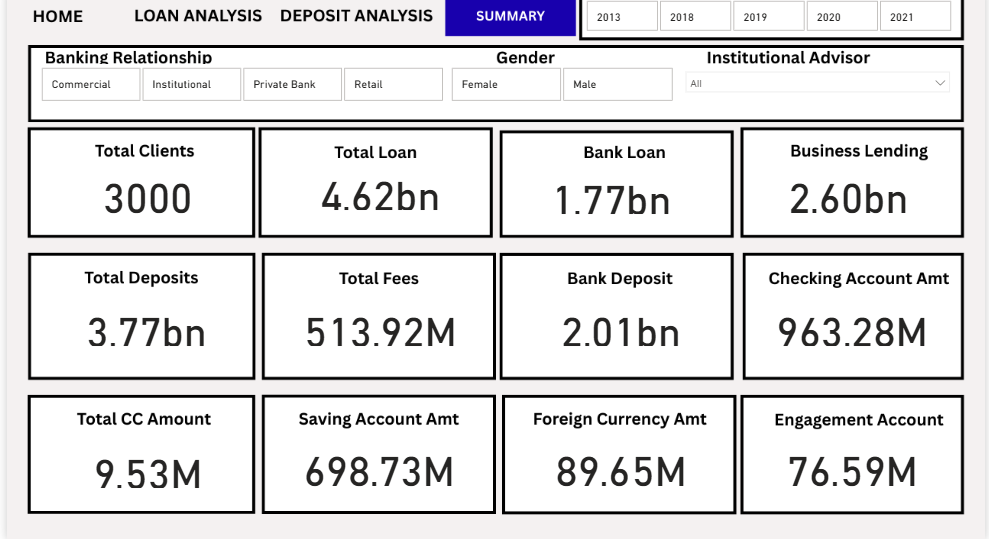

Layout of this report page (visuals, bound fields, positions):
{"tool":"powerbi","page":{"name":"Summary","canvas":[1280,720],"ordinal":3},"visuals":[{"type":"advancedSlicerVisual","fields":{"Values":["bank_details.Year of Joining"]},"box":[754.2,9.6,490,49.5],"z":0},{"type":"advancedSlicerVisual","fields":{"Values":["bank_details.BRId"]},"box":[40.3,97.4,537.5,53.8],"z":1000},{"type":"advancedSlicerVisual","fields":{"Values":["bank_details.GenderId"]},"box":[577.8,97.4,300.7,53.8],"z":2000},{"type":"slicer","fields":{"Values":["bank_details.IAId"]},"box":[878.5,97.4,366.2,53.8],"z":3000},{"type":"actionButton","box":[18.5,13.4,100.8,40.3],"z":4000},{"type":"actionButton","box":[156.2,13.4,183.1,37],"z":5000},{"type":"actionButton","box":[351.1,13.4,211.7,37],"z":6000},{"type":"card","fields":{"Values":["CountNonNull(bank_details.Name)"]},"box":[105.8,233.5,156.2,65.5],"z":7000},{"type":"card","fields":{"Values":["bank_details.Total Loan"]},"box":[386.4,233.5,204.9,60.5],"z":8000},{"type":"card","fields":{"Values":["Sum(bank_details.Bank Loans)"]},"box":[688.7,238.5,204.9,60.5],"z":9000},{"type":"card","fields":{"Values":["Sum(bank_details.Business Lending)"]},"box":[999.5,233.5,204.9,65.5],"z":10000},{"type":"card","fields":{"Values":["bank_details.Total Deposit"]},"box":[68.9,411.5,226.8,60.5],"z":11000},{"type":"card","fields":{"Values":["Sum(bank_details.Estimated Income)"]},"box":[374.6,411.5,226.8,60.5],"z":12000},{"type":"card","fields":{"Values":["Sum(bank_details.Bank Deposits)"]},"box":[688.7,411.5,230.1,60.5],"z":13000},{"type":"card","fields":{"Values":["Sum(bank_details.Checking Accounts)"]},"box":[986,411.5,240.2,60.5],"z":14000},{"type":"card","fields":{"Values":["Sum(bank_details.Credit Card Balance)"]},"box":[70.6,596.3,226.8,60.5],"z":15000},{"type":"card","fields":{"Values":["Sum(bank_details.Saving Accounts)"]},"box":[371.2,589.6,230.1,67.2],"z":16000},{"type":"card","fields":{"Values":["Sum(bank_details.Foreign Currency Account)"]},"box":[688.7,589.6,230.1,67.2],"z":17000},{"type":"card","fields":{"Values":["Sum(bank_details.Superannuation Savings)"]},"box":[991.1,589.6,230.1,67.2],"z":18000}]}

Visuals, with their boxes on the page's 1280x720 design canvas (x1, y1, x2, y2). These are canvas units, not pixel positions in the 989x539 screenshot, which may show the page scaled, cropped or inside an application window:
advancedSlicerVisual - bank_details.Year of Joining: Rect(754, 10, 1244, 59)
advancedSlicerVisual - bank_details.BRId: Rect(40, 97, 578, 151)
advancedSlicerVisual - bank_details.GenderId: Rect(578, 97, 878, 151)
slicer - bank_details.IAId: Rect(878, 97, 1245, 151)
actionButton: Rect(18, 13, 119, 54)
actionButton: Rect(156, 13, 339, 50)
actionButton: Rect(351, 13, 563, 50)
card - CountNonNull(bank_details.Name): Rect(106, 234, 262, 299)
card - bank_details.Total Loan: Rect(386, 234, 591, 294)
card - Sum(bank_details.Bank Loans): Rect(689, 238, 894, 299)
card - Sum(bank_details.Business Lending): Rect(1000, 234, 1204, 299)
card - bank_details.Total Deposit: Rect(69, 412, 296, 472)
card - Sum(bank_details.Estimated Income): Rect(375, 412, 601, 472)
card - Sum(bank_details.Bank Deposits): Rect(689, 412, 919, 472)
card - Sum(bank_details.Checking Accounts): Rect(986, 412, 1226, 472)
card - Sum(bank_details.Credit Card Balance): Rect(71, 596, 297, 657)
card - Sum(bank_details.Saving Accounts): Rect(371, 590, 601, 657)
card - Sum(bank_details.Foreign Currency Account): Rect(689, 590, 919, 657)
card - Sum(bank_details.Superannuation Savings): Rect(991, 590, 1221, 657)
